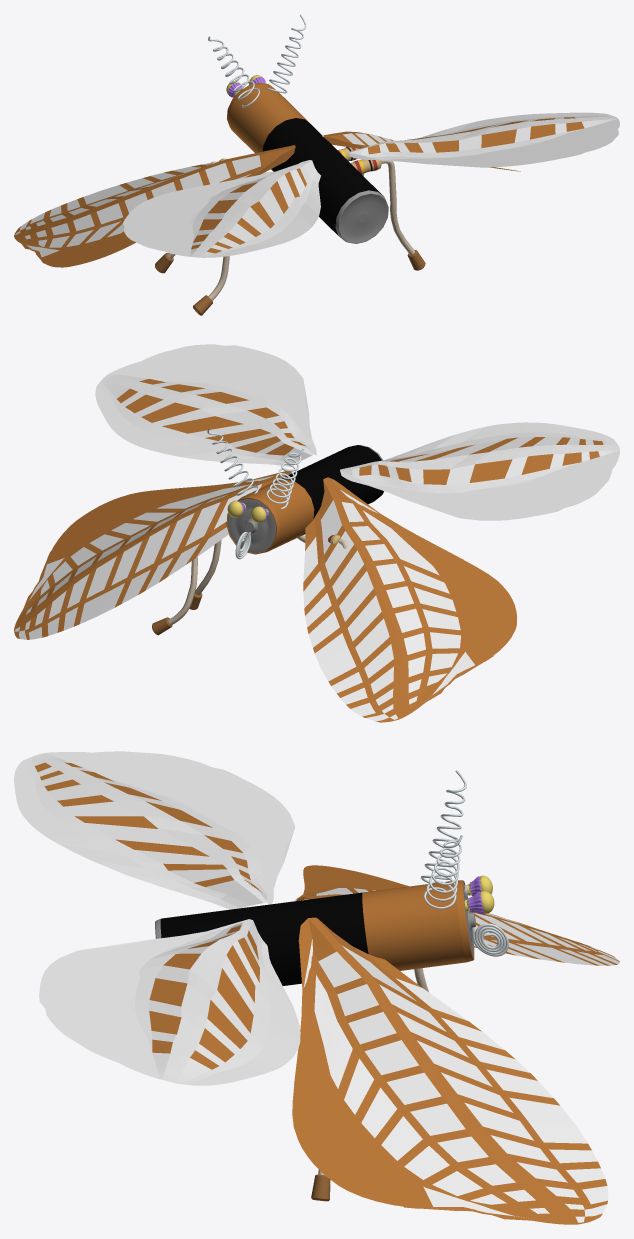
File: team_5_22_ARIS_Export.fbx
3 views of the same model, one above another, from view 1: azimuth 30°, elevation 25°; view 2: azimuth 150°, elevation 25°; view 3: azimuth 270°, elevation 25° (orthographic). The views are drawn at different scales.
Visible parts, largest first — view 1: LowerWing.002, UpperWing.002, LowerWing.003, Body.002, antenna1.001, UpperWing.003, BezierCurve.011; view 2: UpperWing.002, LowerWing.003, UpperWing.003, LowerWing.002, Body.002, antenna1.001; view 3: UpperWing.003, LowerWing.003, LowerWing.002, Body.002, UpperWing.002, antenna1.001.
Boxes of the visible parts, x1,y1,x2,y2 form: LowerWing.002: [123, 160, 320, 257]; UpperWing.002: [14, 145, 295, 267]; LowerWing.003: [348, 112, 619, 167]; Body.002: [227, 82, 388, 243]; antenna1.001: [208, 14, 306, 107]; UpperWing.003: [322, 131, 520, 171]; BezierCurve.011: [381, 160, 415, 254]; UpperWing.002: [303, 477, 517, 722]; LowerWing.003: [95, 344, 316, 466]; UpperWing.003: [14, 471, 291, 639]; LowerWing.002: [340, 422, 619, 520]; Body.002: [226, 445, 383, 554]; antenna1.001: [207, 428, 303, 559]; UpperWing.003: [292, 917, 608, 1224]; LowerWing.003: [39, 919, 300, 1085]; LowerWing.002: [14, 751, 295, 909]; Body.002: [155, 880, 475, 985]; UpperWing.002: [295, 865, 619, 965]; antenna1.001: [420, 770, 508, 956].
Bounding box in the file's own units: 433 × 199 × 336.
